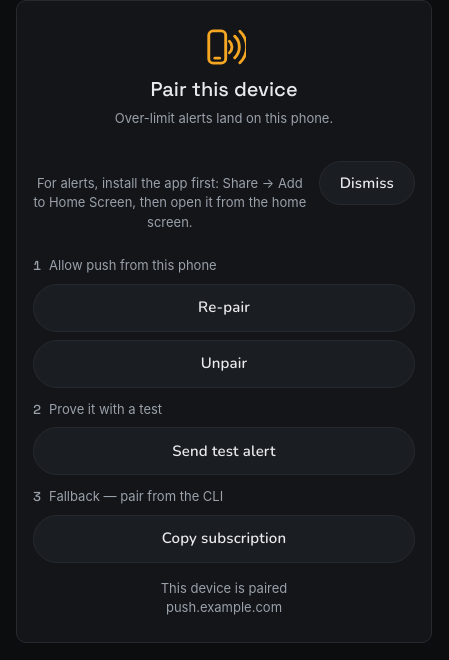
Test: PairingView › unpair unsubscribes, DELETEs the endpoint and returns to the unpaired ritual
The image size is (449, 660).
Expected: the text "This device is paired push.example.com" is shown, x1=161 y1=580 x2=287 y2=615
Click the button "Unpair" at (224, 364), box x1=33 y1=340 x2=415 y2=388
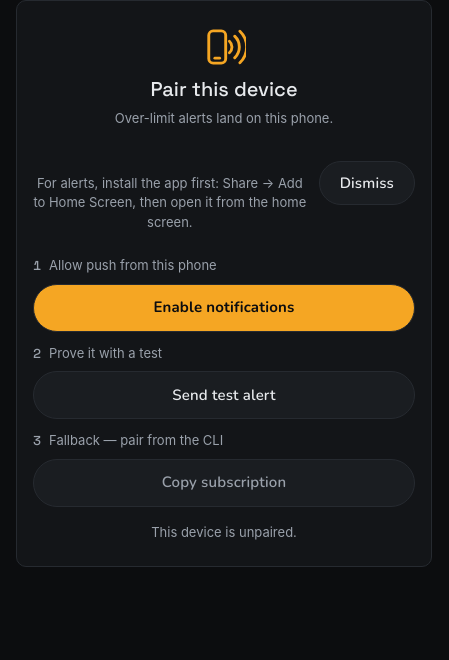
Expected: the text "This device is unpaired." is shown, x1=151 y1=524 x2=297 y2=540
Expected: the text "This device is paired" is gone
Expected: the button "Enable notifications" is shown, x1=33 y1=284 x2=415 y2=332
